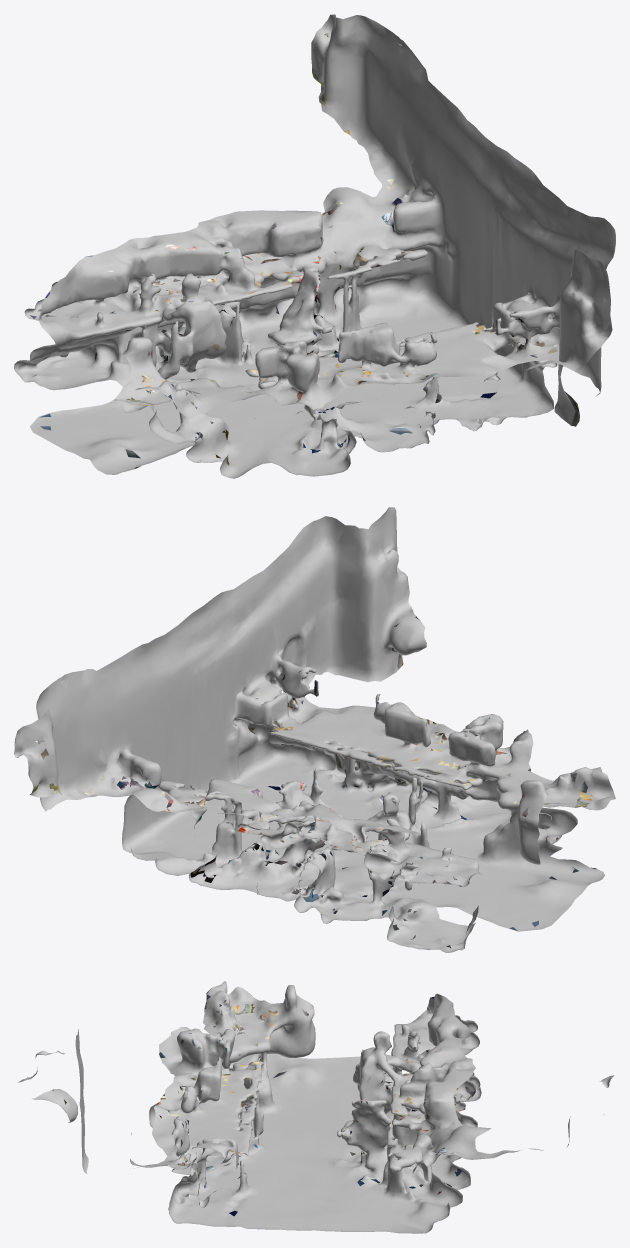
The model's file is scan.gltf.
3 views of the same model, one above another, from view 1: azimuth 30°, elevation 25°; view 2: azimuth 150°, elevation 25°; view 3: azimuth 270°, elevation 25° (orthographic). The views are drawn at different scales.
Parts seen in each view (by area): view 1: defaultobject; view 2: defaultobject; view 3: defaultobject.
Part boxes in pixels (<box>): defaultobject: <box>14,14,615,478</box>; defaultobject: <box>14,507,615,952</box>; defaultobject: <box>18,981,614,1233</box>.
Size of the model in its own units: 5.23 by 2.5 by 7.06.
